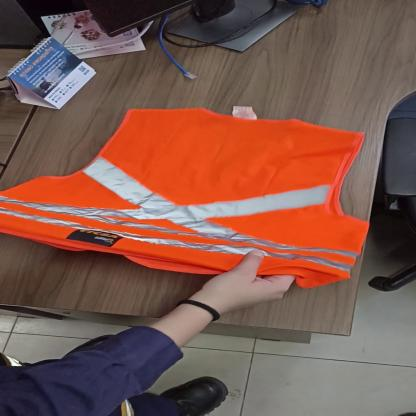colete: (0, 106, 378, 289)
